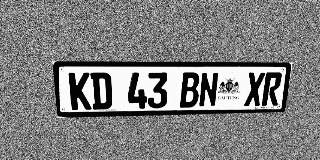3: (148, 72, 168, 108)
4: (128, 72, 147, 109)
B: (180, 72, 200, 108)
D: (90, 72, 112, 110)
K: (68, 72, 92, 110)
N: (198, 72, 219, 107)
R: (261, 72, 283, 106)
X: (244, 72, 265, 106)
